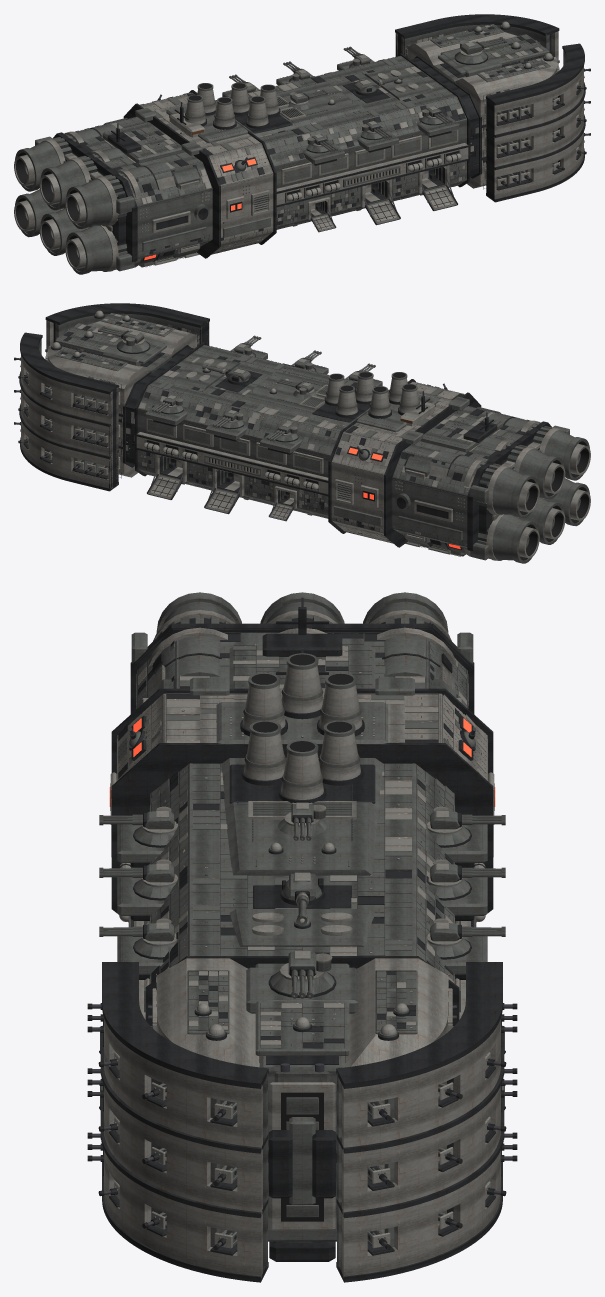
The model's file is 機戰風.glb.
3 views of the same model, one above another, from view 1: azimuth 30°, elevation 25°; view 2: azimuth 150°, elevation 25°; view 3: azimuth 270°, elevation 25° (orthographic). The views are drawn at different scales.
Visible parts, largest first — view 1: hull_mid_mid, hull_mid, hull_light, shields_plate_light, shields_plate_dark, hull_dark, superstructure_mid, engines.thruster.004, bow_mid, bow_block_light, engines.thruster.005, engines.thruster.002 (+29 smaller); view 2: hull_mid_mid, hull_mid, hull_light, shields_plate_light, shields_plate_dark, hull_dark, superstructure_mid, engines.thruster.002, bow_mid, bow_block_light, engines.thruster.003, engines.thruster.004 (+29 smaller); view 3: shields_plate_light, hull_mid_mid, shields_plate_dark, superstructure_mid, bow_mid, hull_dark, bow_block_light, hull_light, weapons_mid, engines.thruster.004, engines.thruster.002, bow_dark (+24 smaller).
Boxes of the visible parts, x1,y1,x2,y2 form: hull_mid_mid: (215,56,466,229); hull_mid: (65,117,460,267); hull_light: (140,92,468,265); shields_plate_light: (395,31,583,199); shields_plate_dark: (395,14,585,202); hull_dark: (63,53,481,259); superstructure_mid: (102,67,432,163); engines.thruster.004: (65,161,200,228); bow_mid: (430,24,550,83); bow_block_light: (408,32,557,188); engines.thruster.005: (65,225,200,274); engines.thruster.002: (14,118,127,191); hull_mid_mid: (138,345,389,518); hull_mid: (144,406,539,556); hull_light: (136,381,464,554); shields_plate_light: (21,319,209,488); shields_plate_dark: (19,303,209,491); hull_dark: (123,342,541,548); superstructure_mid: (172,356,502,452); engines.thruster.002: (404,450,539,517); bow_mid: (54,313,174,372); bow_block_light: (47,321,196,477); engines.thruster.003: (404,514,539,563); engines.thruster.004: (477,407,590,480); shields_plate_light: (104,1018,500,1278); hull_mid_mid: (150,763,454,983); shields_plate_dark: (100,962,504,1282); superstructure_mid: (190,645,414,946); bow_mid: (187,963,417,1241); hull_dark: (111,629,493,1025); bow_block_light: (157,958,447,1233); hull_light: (110,693,494,1019); weapons_mid: (117,824,487,974); engines.thruster.004: (143,592,241,702); engines.thruster.002: (363,592,461,702); bow_dark: (266,1056,338,1261).
Size of the model in its own units: 998 by 255 by 355.
7 materials, 4 textured.
